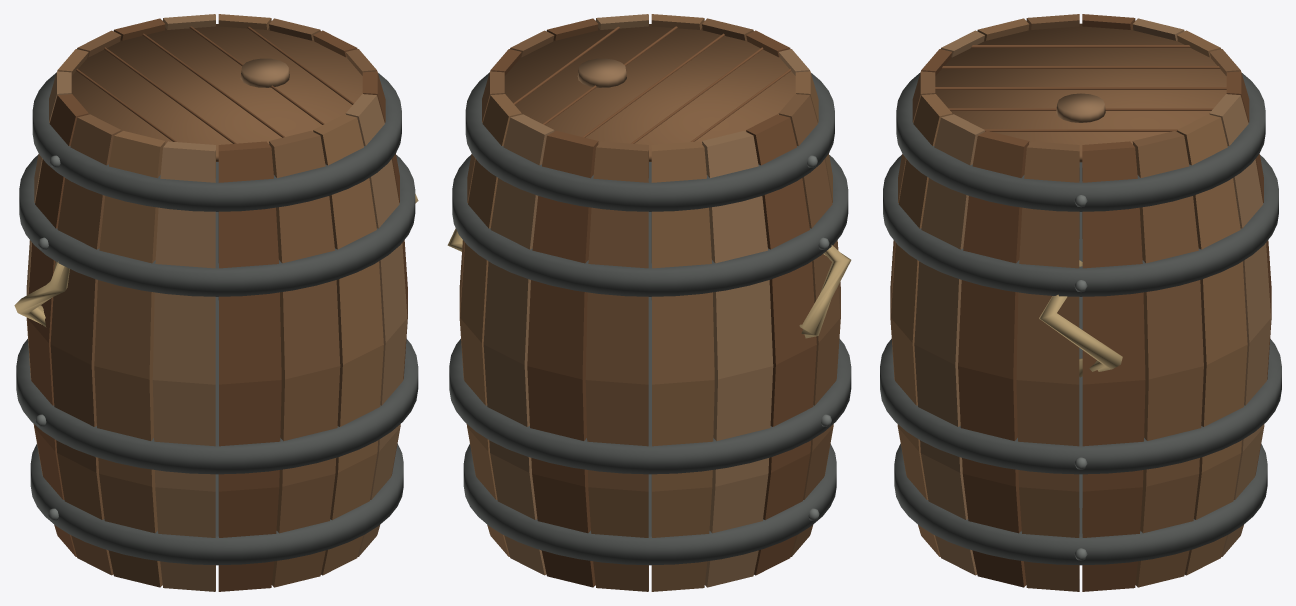
Rendered from water.glb.
The picture shows the model from 3 angles, left to right: view 1: azimuth 30°, elevation 25°; view 2: azimuth 150°, elevation 25°; view 3: azimuth 270°, elevation 25°; orthographic projection.
Parts seen in each view (by area): view 1: Cargo_water; view 2: Cargo_water; view 3: Cargo_water.
Boxes of the visible parts, <box> form: Cargo_water: <box>14,14,418,591</box>; Cargo_water: <box>447,14,851,591</box>; Cargo_water: <box>880,14,1281,591</box>.
Bounding box in the file's own units: 0.7689 × 0.885 × 0.7273.
